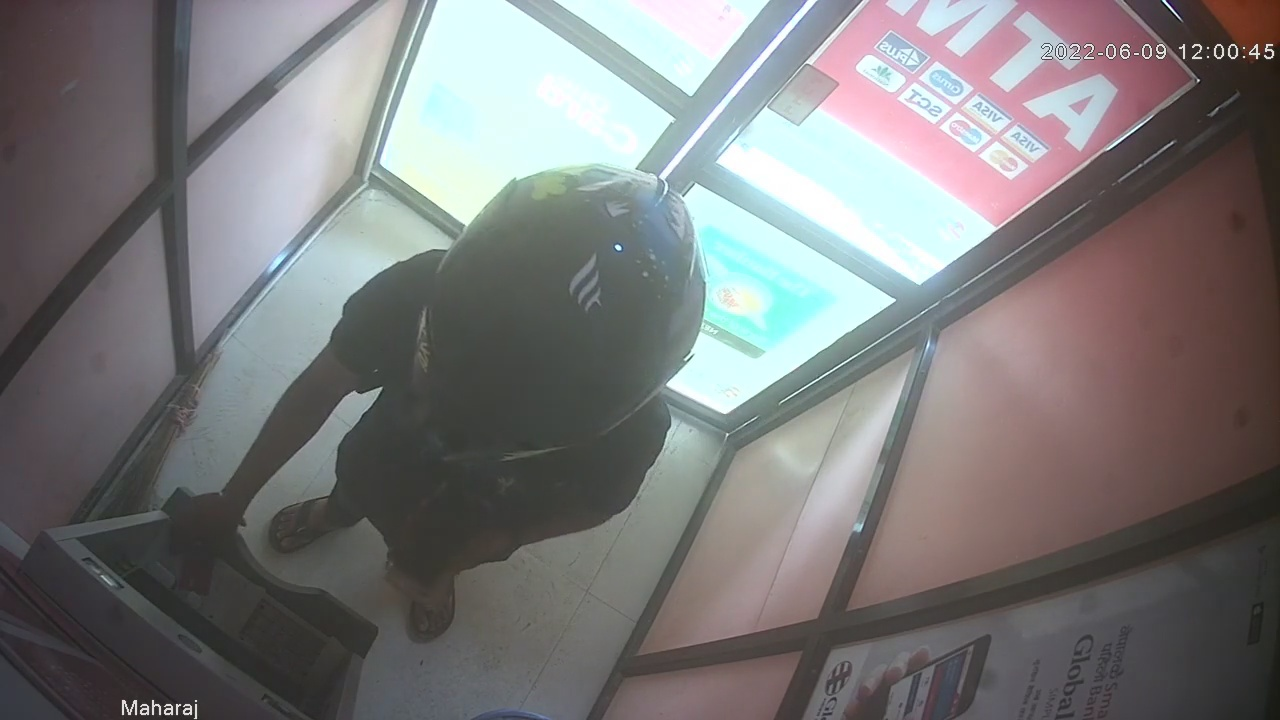helmet: (407, 159, 708, 468)
person: (172, 159, 708, 641)
